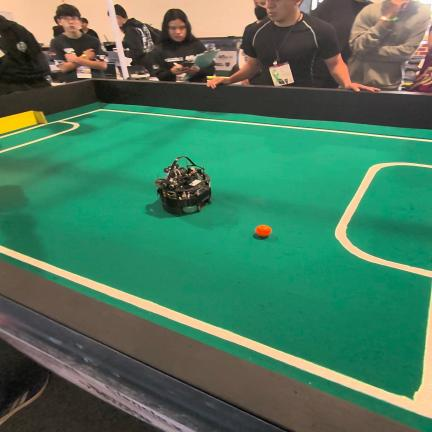cancha: (0, 103, 432, 432)
limites: (0, 246, 432, 418), (0, 108, 432, 153), (335, 162, 432, 279)
pelota: (255, 225, 272, 238)
porteria: (0, 111, 47, 134)
robot: (155, 156, 211, 215)
